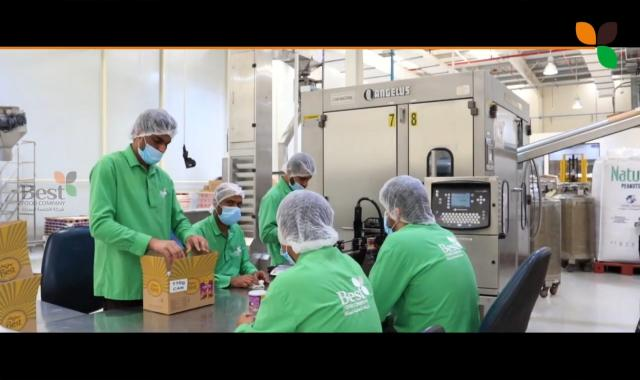hairnet: (276, 192, 339, 251), (379, 172, 435, 227), (124, 107, 174, 143), (212, 180, 242, 217), (282, 151, 314, 179)
